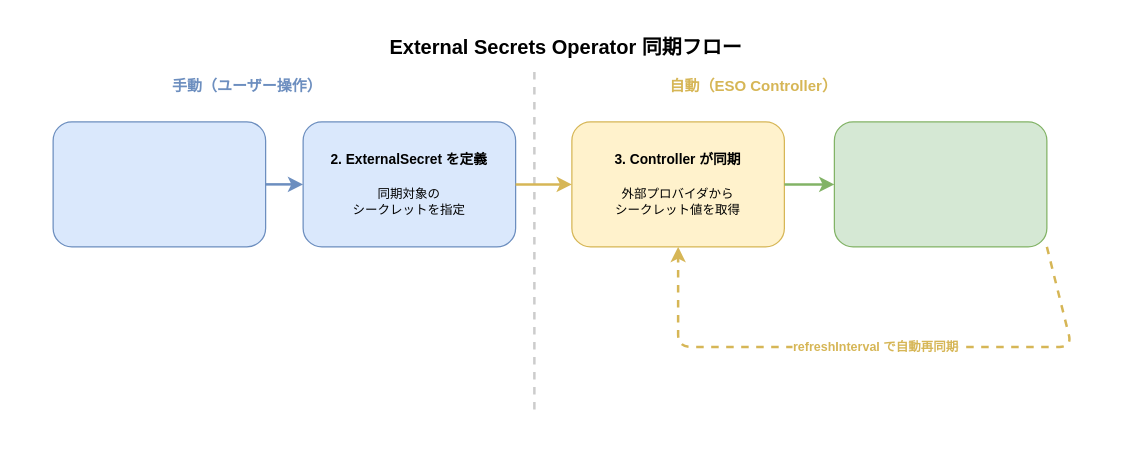
The diagram is 1130 pixels wide and 468 high, and some of its shapes have lost their labels. Here are the shapes that lost their labels. From the top down, the centre of each, then its label:
the point at 159,184: 1. SecretStore を定義 外部プロバイダの 認証情報を設定
the point at 940,184: 4. K8s Secret 作成 Pod から env や volume で利用可能
